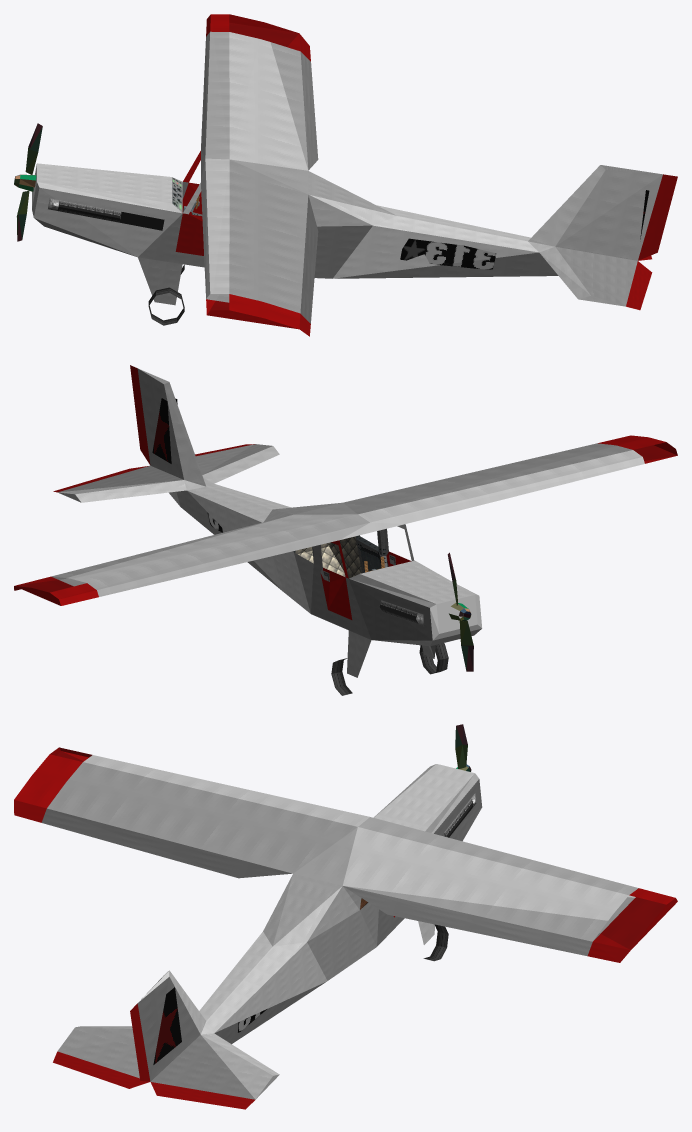
The model's file is primary_30.glb.
3 renders of one model, top to bottom at view 1: azimuth 30°, elevation 25°; view 2: azimuth 150°, elevation 25°; view 3: azimuth 270°, elevation 25°, orthographic.
Visible parts, largest first — view 1: Object; view 2: Object; view 3: Object.
Part boxes in pixels (x1,y1,x2,y2): Object: (14,14,677,336); Object: (14,365,677,695); Object: (14,724,677,1109).
Bounding box in the file's own units: 10.08 × 3.22 × 10.88.
Materials: 102 (102 with a texture image).
